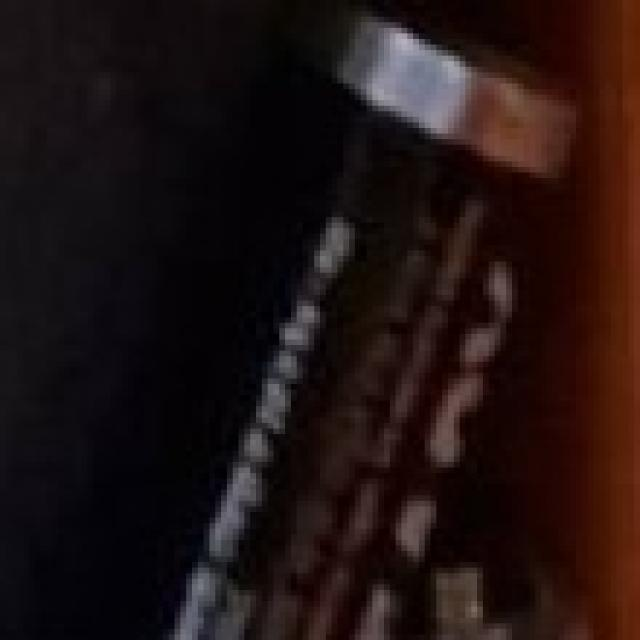battery: (33, 0, 640, 625)
